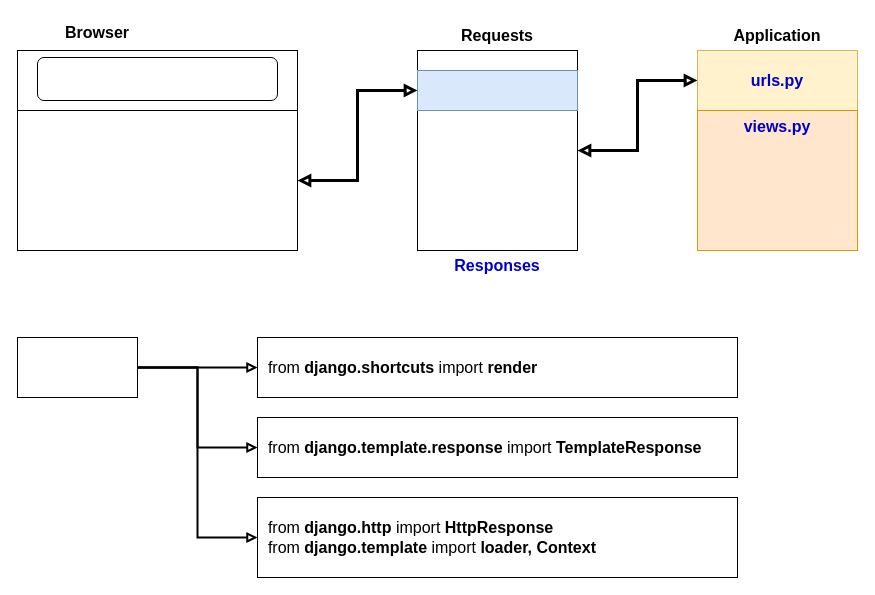
Image size: 875x595. Some labels were removed from this diagram. The centre of each missing label's shape, as x and y in pixels:
"HTTP headers" goes at (x=497, y=90).
"Response" goes at (x=77, y=367).
